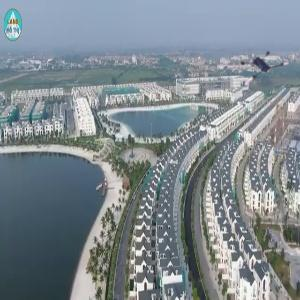drone: (232, 43, 286, 97)
